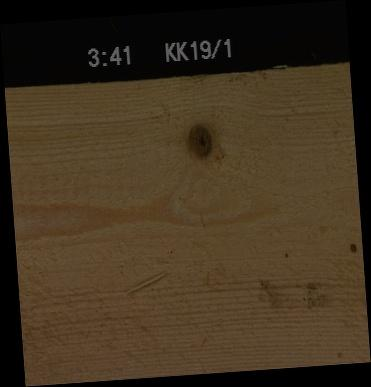small_knot: (347, 241, 357, 254)
sound_knot: (183, 119, 216, 161)
